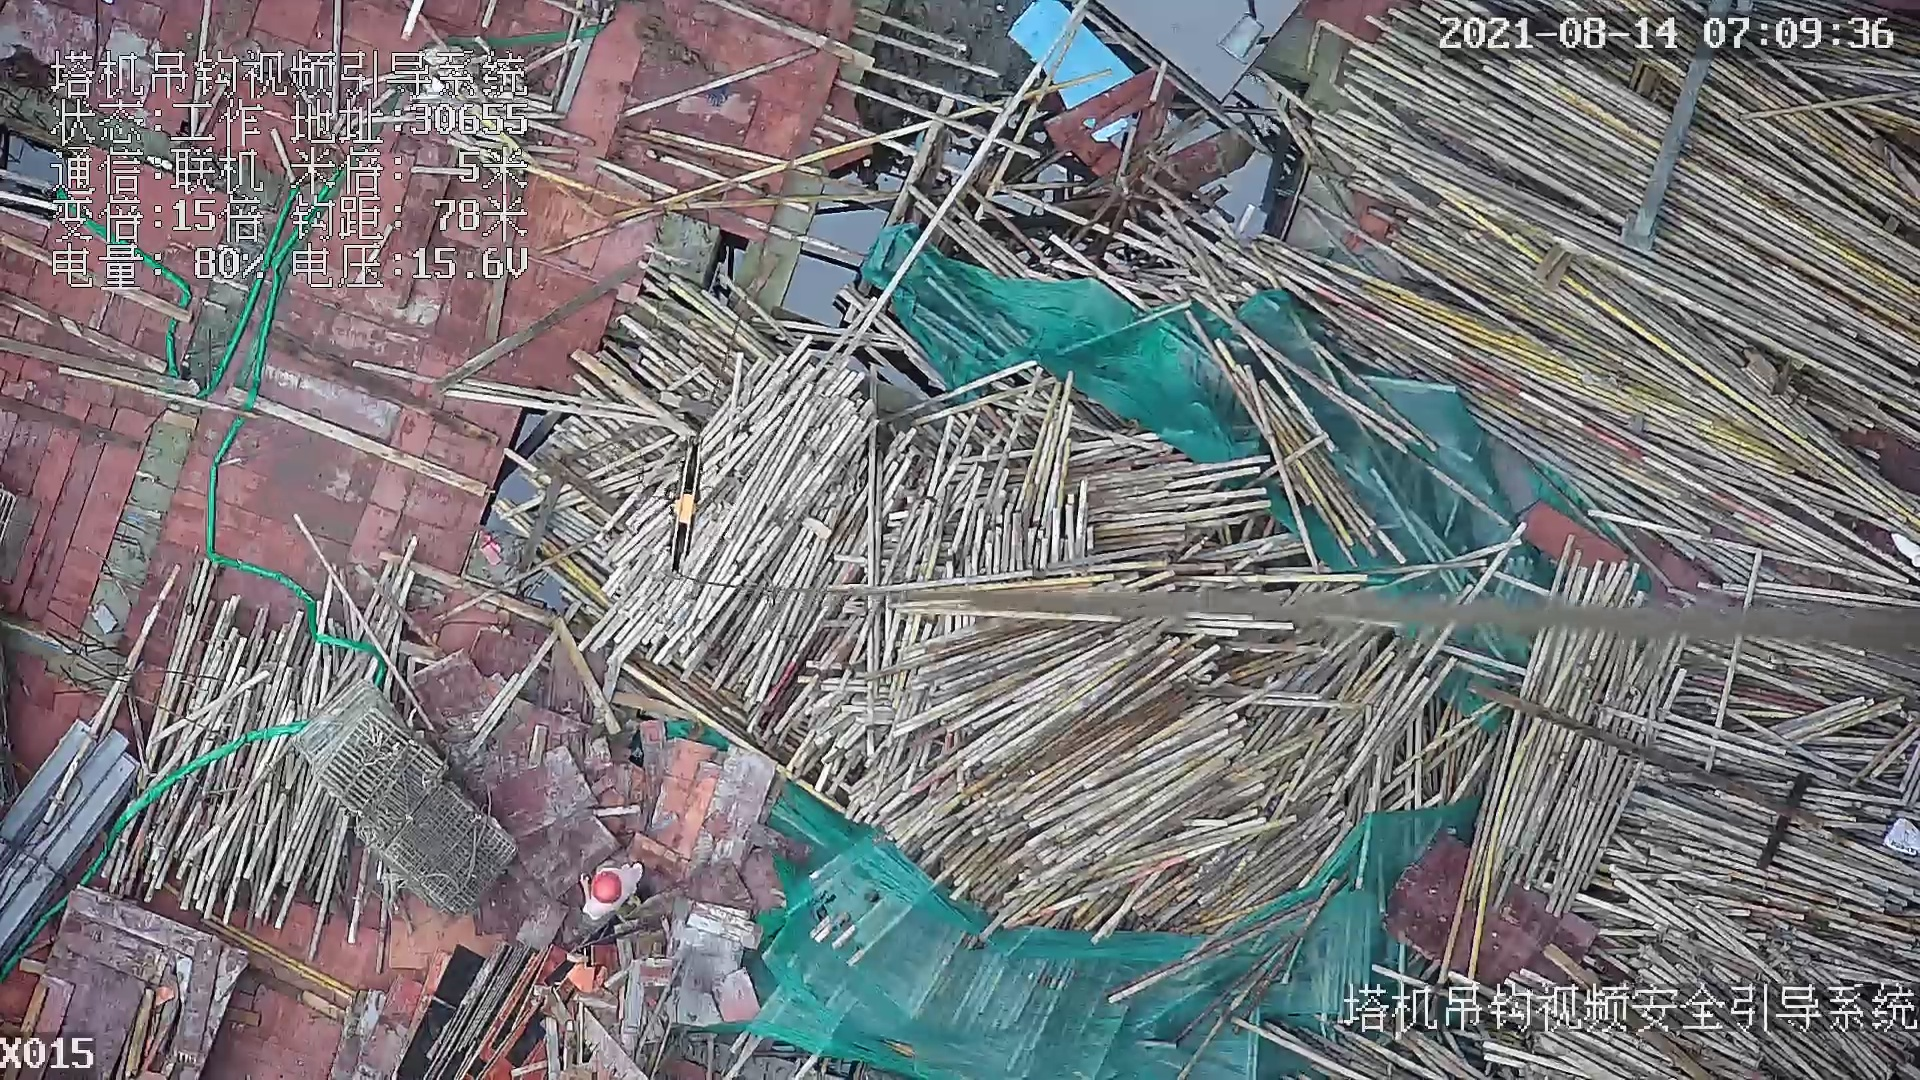helmet: (592, 869, 623, 904)
hook: (665, 435, 710, 580)
person: (579, 863, 653, 930)
